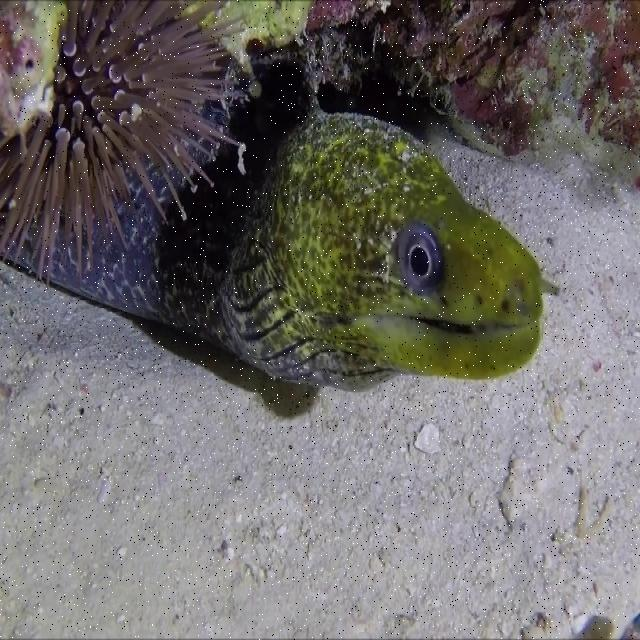fish: (1, 50, 561, 393)
reefs: (0, 1, 247, 281), (302, 0, 639, 163)
